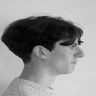ear: (26, 39, 56, 66)
